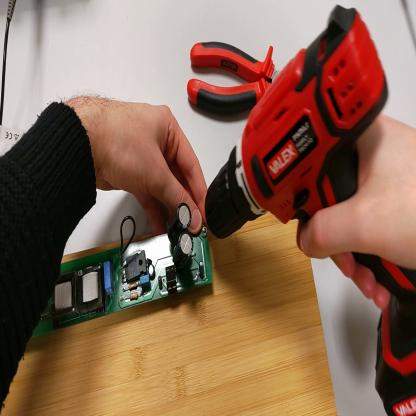electric screwdriver: (204, 5, 416, 416)
hand: (295, 108, 416, 303), (87, 98, 213, 240)
high voltage board: (31, 204, 215, 337)
pliers: (189, 41, 282, 121)
working area: (1, 214, 338, 416)
